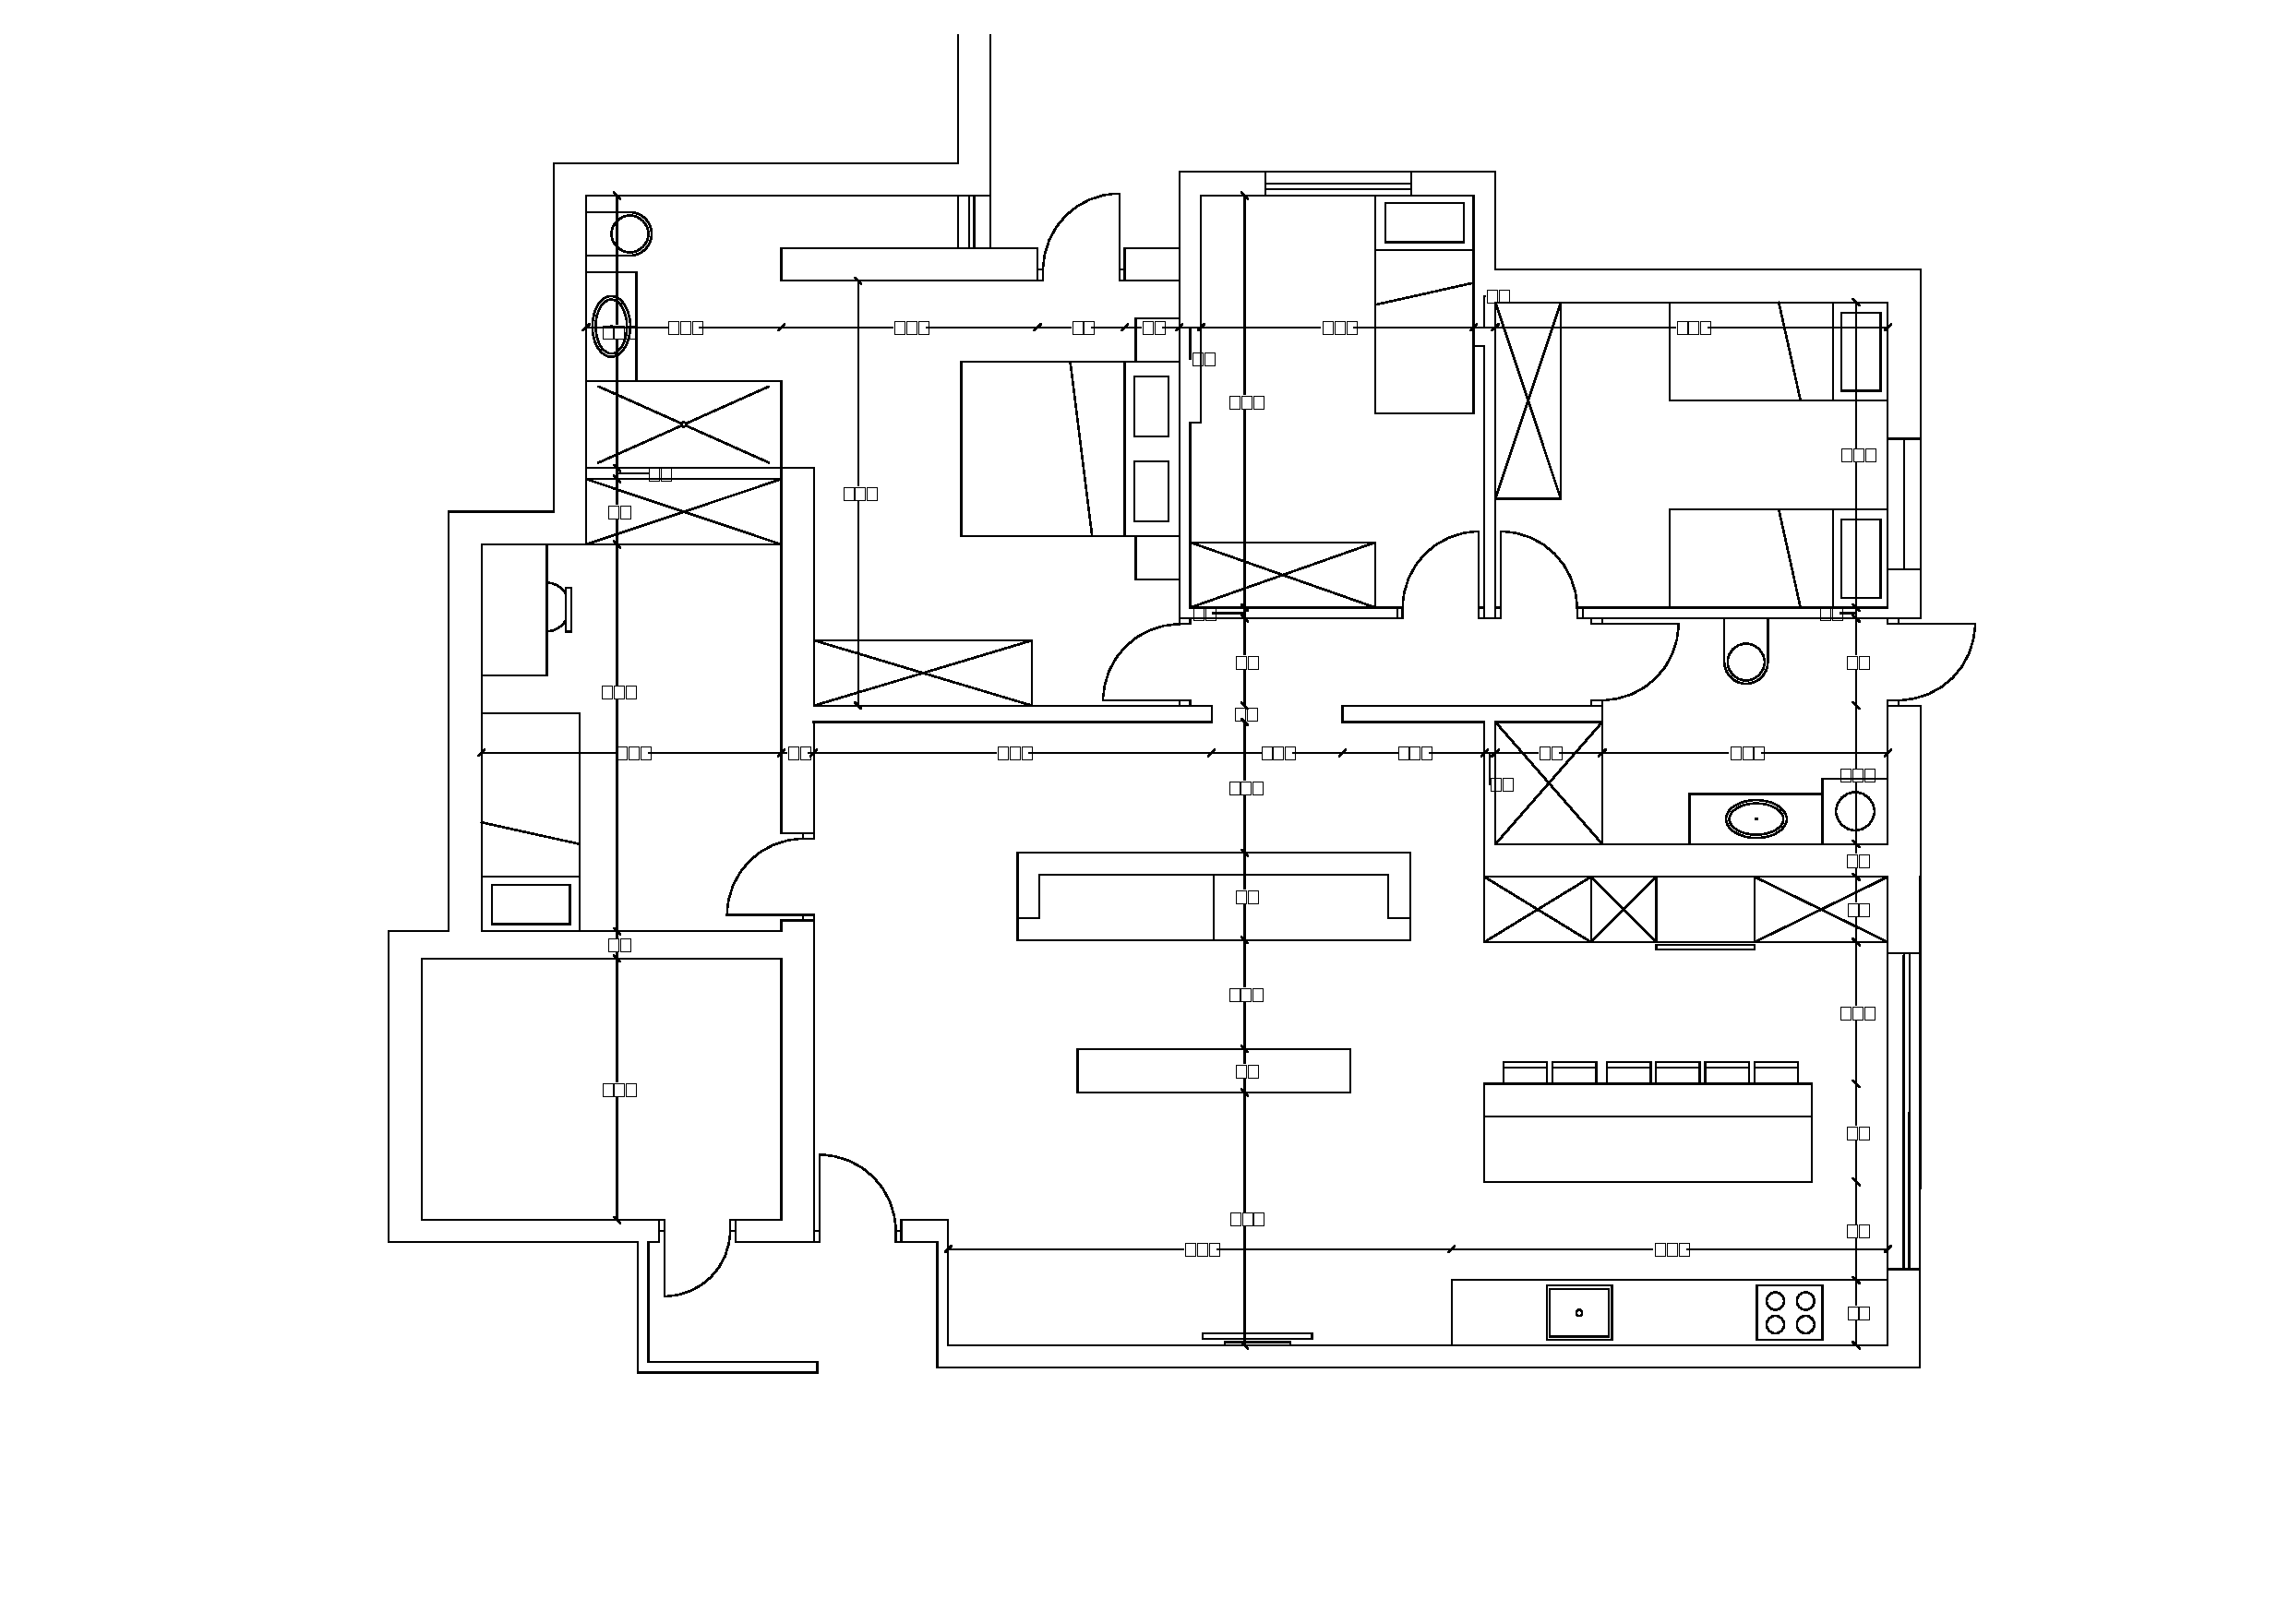door: (1097, 615, 1211, 700), (708, 831, 812, 917), (1890, 620, 1981, 705), (1032, 188, 1123, 272), (1501, 520, 1586, 608), (1399, 518, 1480, 610), (1596, 627, 1679, 708), (821, 1149, 895, 1220), (658, 1248, 733, 1302)
